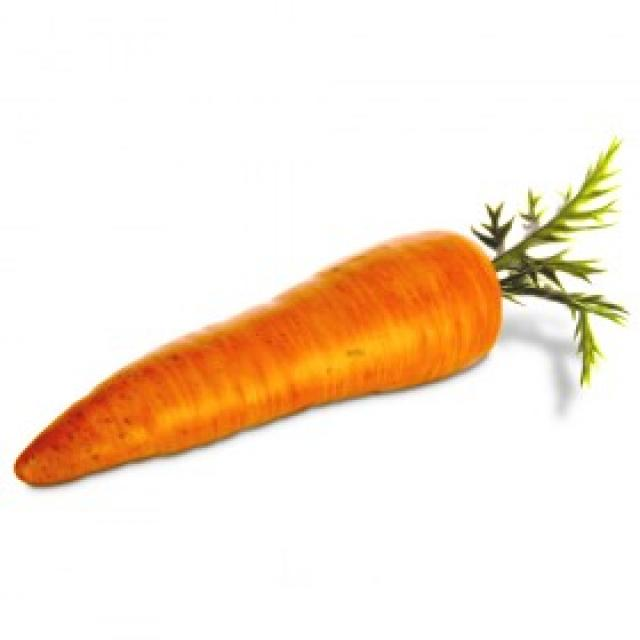Carrot: (22, 220, 506, 487)
